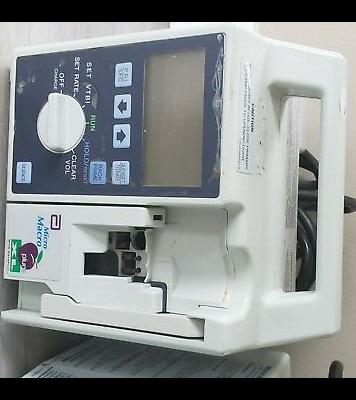plumxl1: (5, 28, 344, 357)
